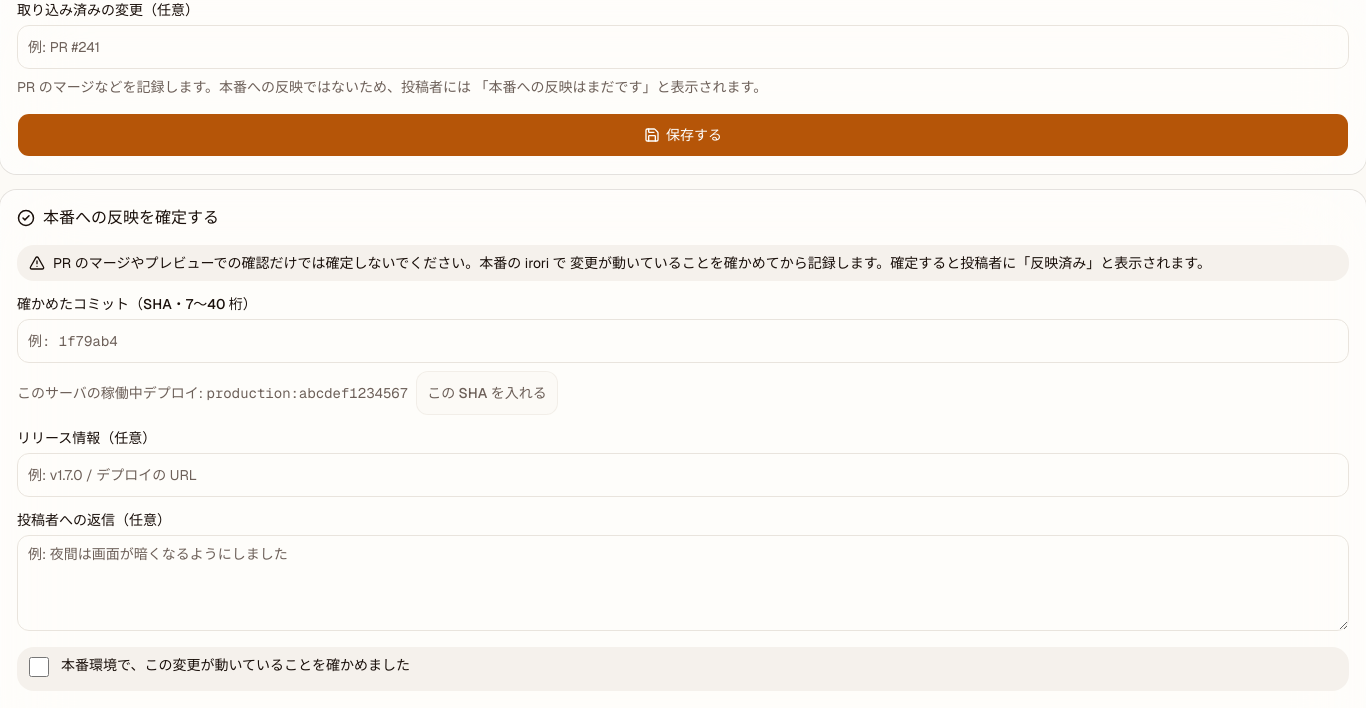
Test: 本番反映の確定フォーム › 稼働中のデプロイの SHA を入れられ、同じコミットだと示す
This screenshot has width=1366, height=708.
(page scrolled)
Click the button "この SHA を入れる" at (487, 393), box [416,371,558,415]
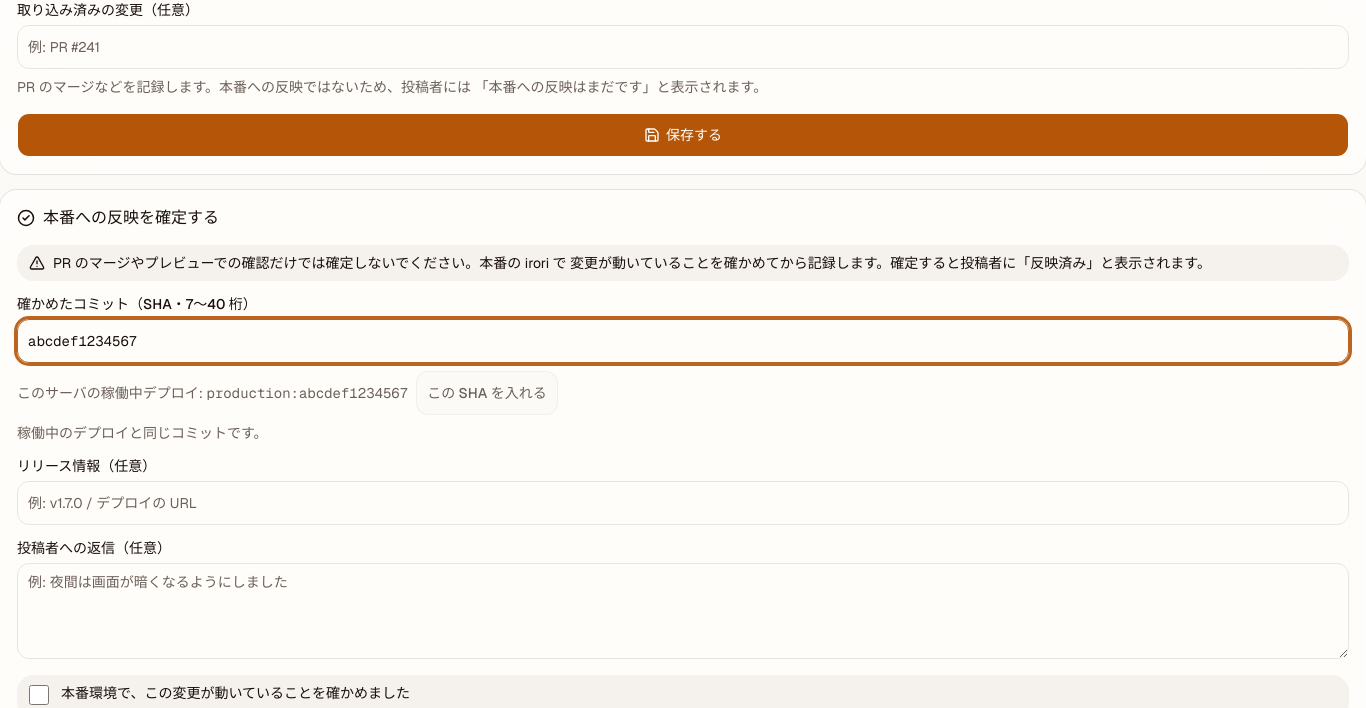
Check: the field labelled "確かめたコミット（SHA・7〜40 桁）" holds "abcdef1234567", box [17,319,1349,363]
Check: the text "稼働中のデプロイと同じコミットです。" is shown, box [17,424,268,442]
